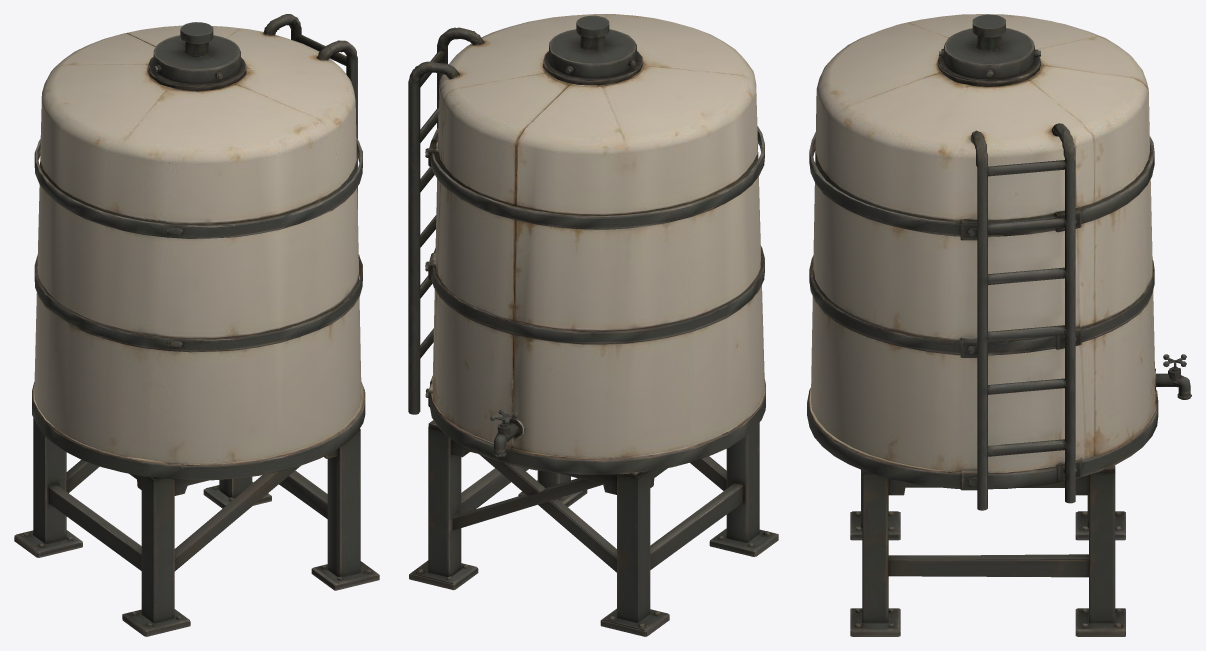
The model's file is rooftop-water-tank.glb.
3 renders of one model, left to right at view 1: azimuth 30°, elevation 25°; view 2: azimuth 150°, elevation 25°; view 3: azimuth 270°, elevation 25°, orthographic. The views are drawn at different scales.
Visible parts, largest first — view 1: tripo_node_118e2bcf-ee38-4179-8749-4390f78daaa8; view 2: tripo_node_118e2bcf-ee38-4179-8749-4390f78daaa8; view 3: tripo_node_118e2bcf-ee38-4179-8749-4390f78daaa8.
Part boxes in pixels (<box>): tripo_node_118e2bcf-ee38-4179-8749-4390f78daaa8: <box>14,14,379,636</box>; tripo_node_118e2bcf-ee38-4179-8749-4390f78daaa8: <box>408,14,778,636</box>; tripo_node_118e2bcf-ee38-4179-8749-4390f78daaa8: <box>807,14,1191,636</box>.
Bounding box in the file's own units: 0.5957 × 0.998 × 0.6269.
1 material, 1 textured.
